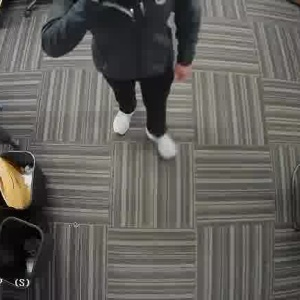person: (79, 0, 178, 157)
